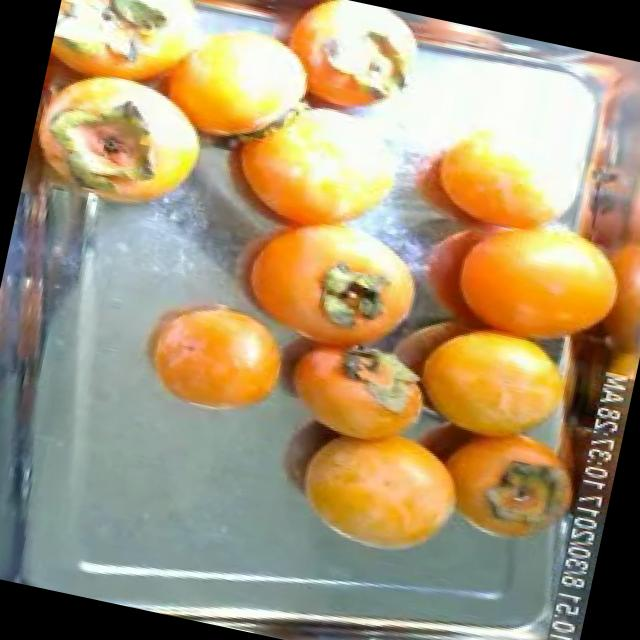Fruit: (273, 400, 483, 578), (118, 268, 308, 436)
